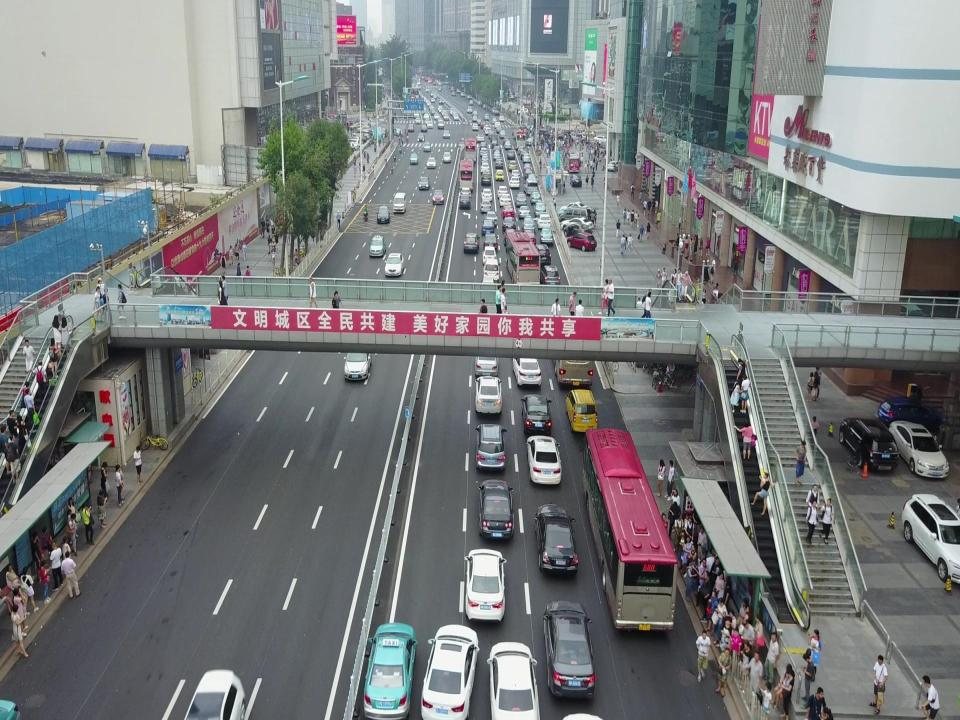bus: (585, 425, 676, 639), (547, 286, 599, 386), (504, 231, 540, 285)
car: (541, 596, 606, 699), (420, 616, 481, 720), (899, 488, 960, 590), (360, 620, 417, 720), (480, 640, 543, 720), (532, 498, 582, 578), (889, 417, 950, 478), (837, 416, 900, 474), (183, 668, 251, 720), (465, 548, 509, 622), (477, 476, 519, 541), (524, 434, 568, 489), (878, 392, 944, 426), (471, 420, 509, 472), (512, 340, 545, 390), (517, 393, 555, 435), (343, 333, 374, 384), (472, 375, 506, 418), (473, 340, 499, 373), (384, 251, 406, 279), (564, 232, 598, 250), (540, 263, 563, 288), (366, 233, 387, 259), (477, 276, 498, 301), (558, 207, 598, 219), (560, 216, 594, 230), (480, 257, 502, 278), (462, 230, 480, 255), (535, 242, 553, 267), (563, 223, 594, 237), (560, 201, 594, 213), (375, 204, 391, 225), (482, 231, 500, 249), (520, 215, 538, 232), (430, 187, 446, 206), (481, 246, 497, 265), (539, 225, 555, 242), (477, 197, 493, 214), (516, 203, 534, 217), (502, 216, 518, 231), (500, 204, 518, 216), (458, 194, 472, 209), (484, 209, 498, 224), (480, 219, 494, 233), (418, 174, 430, 190), (536, 214, 552, 226), (569, 174, 583, 187), (509, 176, 522, 189), (480, 172, 492, 186), (480, 188, 494, 200), (499, 193, 511, 206), (534, 201, 548, 212), (530, 189, 544, 200), (496, 184, 508, 196), (459, 185, 471, 197), (515, 192, 526, 205), (528, 174, 538, 184)
van: (565, 386, 598, 434), (392, 190, 410, 216), (523, 177, 541, 194)
